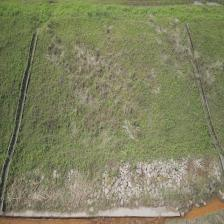rock toe: (86, 161, 189, 208)
slope drain: (0, 29, 38, 214), (183, 23, 224, 174)
